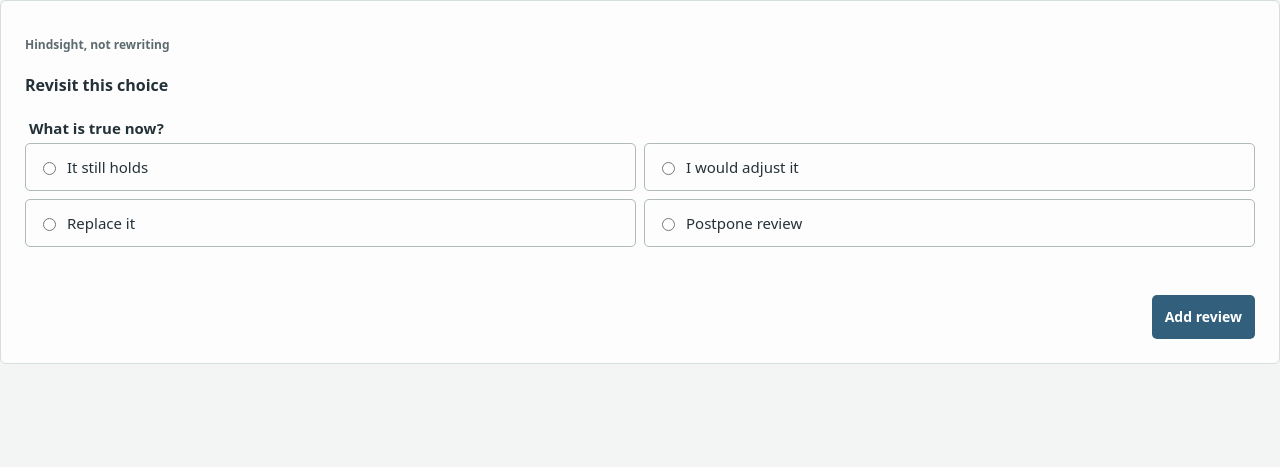
Test: requires a chosen later date when postponing a review
This screenshot has width=1280, height=467.
expect the button "Add review" is disabled: met, box [1152,295,1255,339]
Click the radio button labelled "Postpone review" at (668,224), box [662,218,675,231]
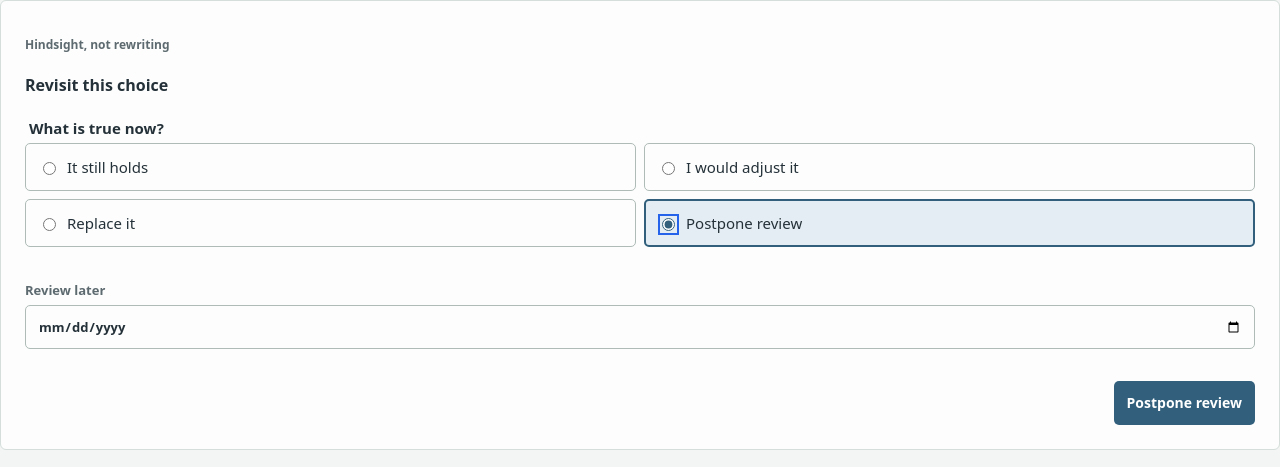
Type "2026-12-01" into the date field labelled "Review later" at (640,327), box [25,305,1255,349]
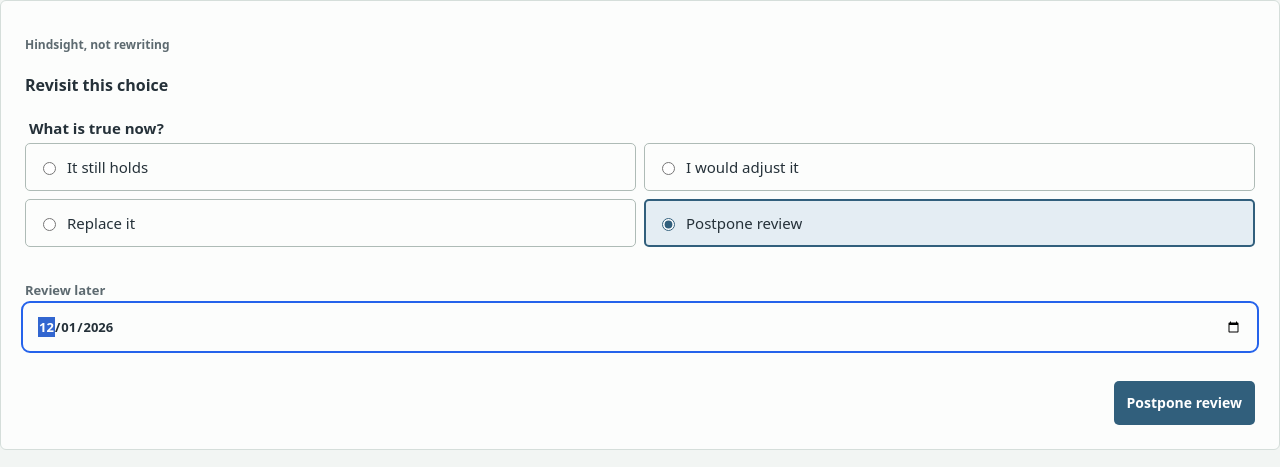
Click the button "Postpone review" at (1184,403), box [1114,381,1255,425]
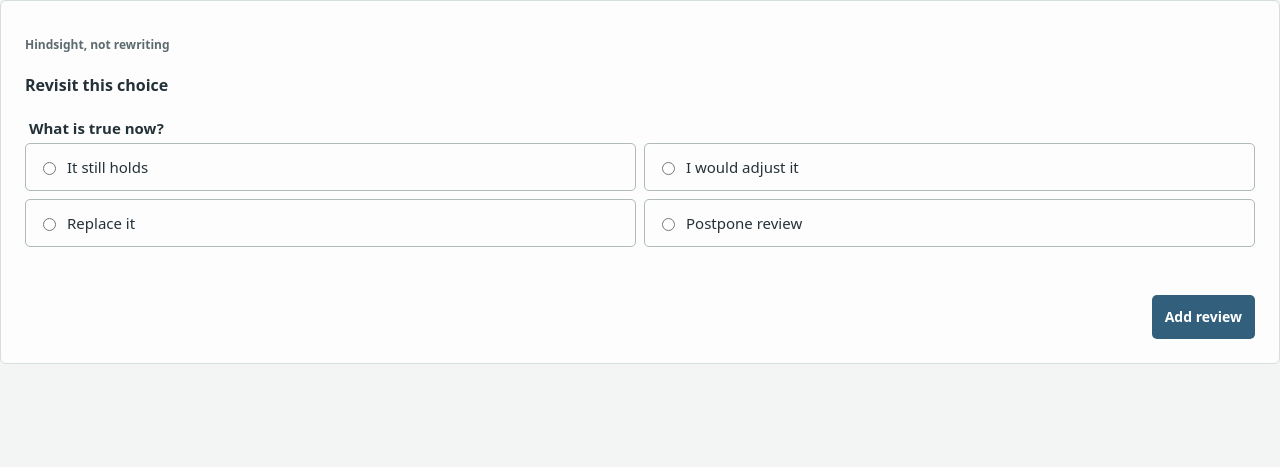
expect the button "Add review" is disabled: met, box [1152,295,1255,339]
